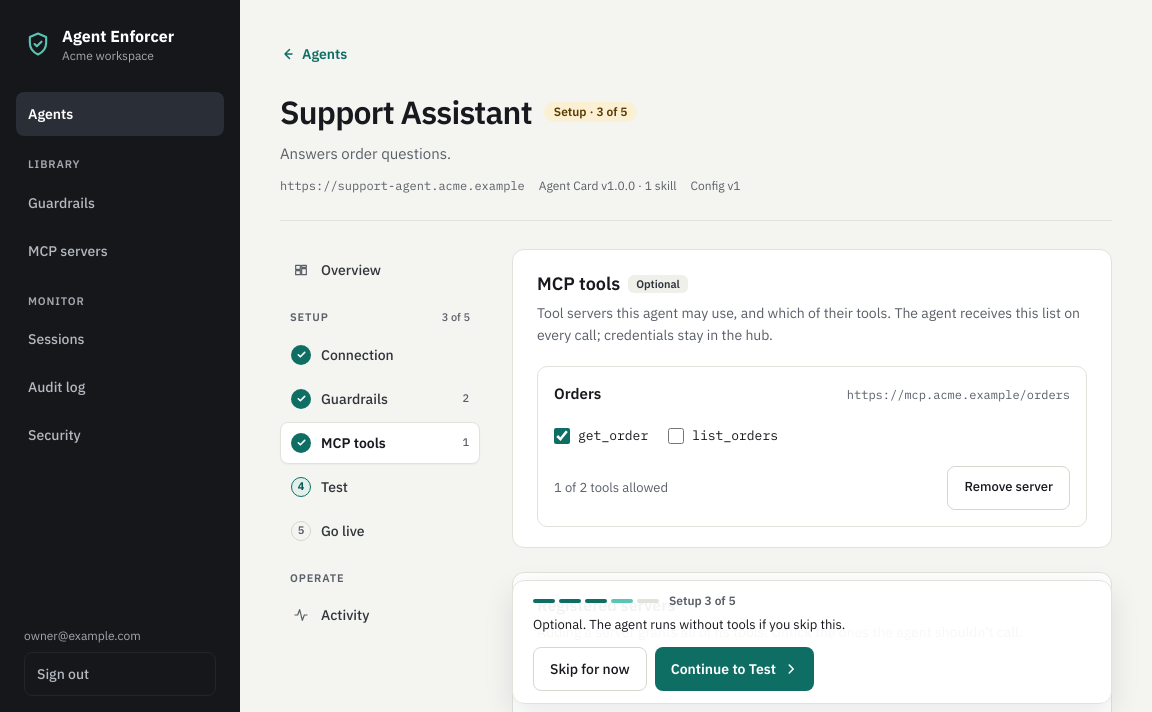
Test: Agent MCP tools step (FR-17) › needs at least one tool
Click the checkbox labelled "get_order" at (562, 436), box [554,428,570,444]
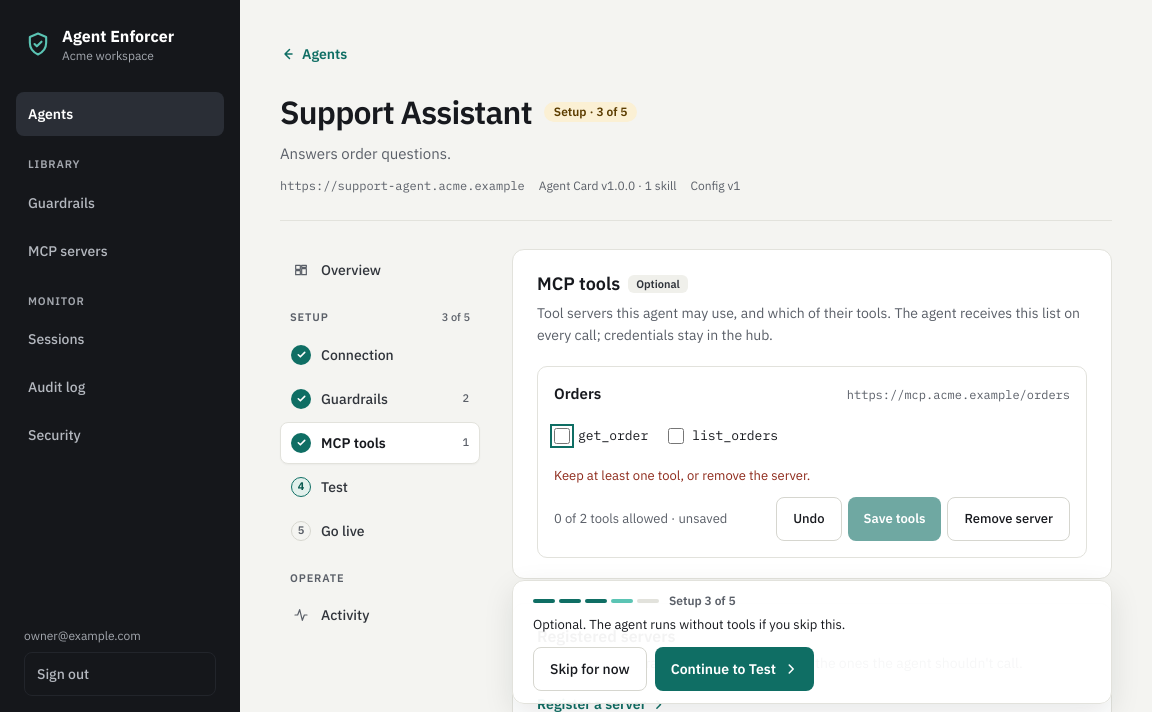
Check: the button with aria-label "Save tools for Orders" is disabled, box [848,497,942,541]
Check: the text "Keep at least one tool, or remove the server." is shown, box [554,466,810,484]
